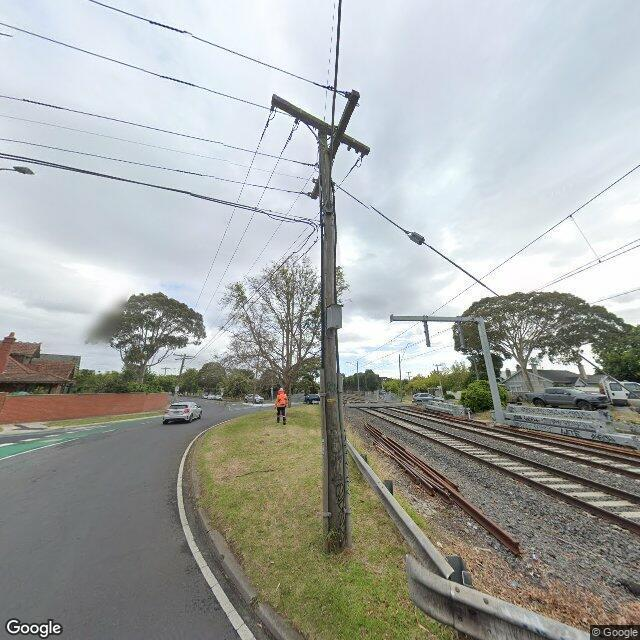crossarm: (272, 94, 371, 156), (310, 90, 360, 200), (173, 354, 193, 357), (175, 358, 192, 360)
streetlight: (0, 166, 36, 174)
timber-pole: (318, 128, 348, 555), (180, 354, 186, 376)
